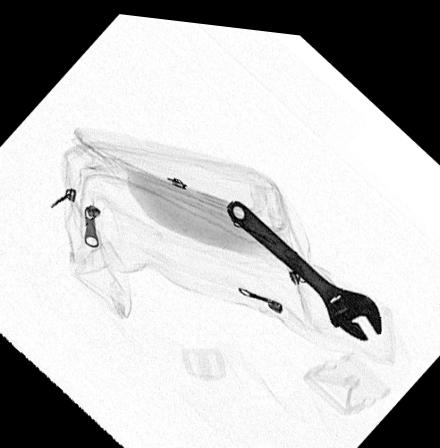Wrench: (225, 193, 380, 331)
